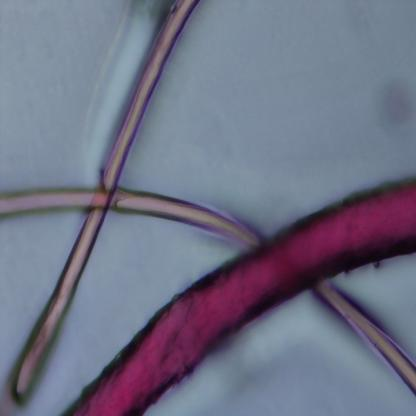Hair textile: (62, 177, 416, 416)
Microfibre: (10, 0, 198, 406), (0, 181, 260, 251), (316, 284, 416, 394)
